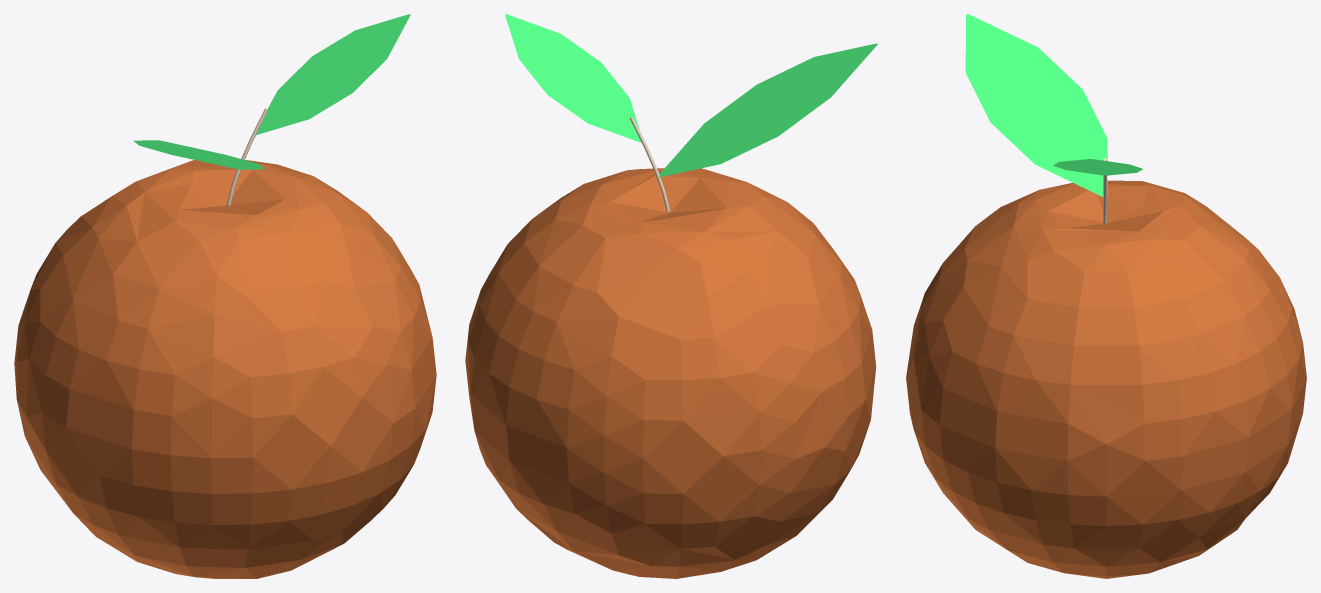
File: orange_fractured.fbx
3 renders of one model, left to right at view 1: azimuth 30°, elevation 25°; view 2: azimuth 150°, elevation 25°; view 3: azimuth 270°, elevation 25°, orthographic. The views are drawn at different scales.
Parts seen in each view (by area): view 1: Sphere001, Sphere001_shard.008, Sphere001_shard.013, Sphere001_shard.009, Sphere001_shard.011, Sphere001_shard.001, Sphere001_shard.006, Plane003, Sphere001_shard.010, Plane002, Sphere001_shard.007; view 2: Sphere001, Sphere001_shard.004, Sphere001_shard.006, Sphere001_shard.014, Plane002, Plane003, Sphere001_shard.002, Sphere001_shard.003, Sphere001_shard.013, Sphere001_shard.009, Sphere001_shard.005; view 3: Sphere001, Sphere001_shard.007, Sphere001_shard.013, Plane002, Sphere001_shard.010, Sphere001_shard.002, Sphere001_shard.005, Sphere001_shard.001, Sphere001_shard.004, Sphere001_shard.012, Plane003, Sphere001_shard.003.
Boxes of the visible parts, x1,y1,x2,y2 form: Sphere001: (27, 160, 435, 578); Sphere001_shard.008: (118, 313, 341, 503); Sphere001_shard.013: (253, 175, 422, 345); Sphere001_shard.009: (49, 181, 278, 457); Sphere001_shard.011: (97, 473, 363, 578); Sphere001_shard.001: (289, 339, 425, 503); Sphere001_shard.006: (14, 282, 152, 565); Plane003: (256, 14, 410, 134); Sphere001_shard.010: (378, 354, 436, 513); Plane002: (133, 140, 264, 169); Sphere001_shard.007: (319, 182, 434, 359); Sphere001: (465, 177, 875, 571); Sphere001_shard.004: (491, 242, 739, 485); Sphere001_shard.006: (618, 372, 864, 578); Sphere001_shard.014: (558, 430, 693, 570); Plane002: (658, 43, 877, 177); Plane003: (505, 14, 641, 142); Sphere001_shard.002: (482, 187, 655, 335); Sphere001_shard.003: (483, 457, 569, 540); Sphere001_shard.013: (576, 168, 732, 192); Sphere001_shard.009: (647, 215, 870, 379); Sphere001_shard.005: (478, 445, 604, 566); Sphere001: (906, 180, 1306, 578); Sphere001_shard.007: (977, 267, 1197, 531); Sphere001_shard.013: (934, 208, 1113, 393); Plane002: (965, 14, 1107, 196); Sphere001_shard.010: (938, 410, 1087, 565); Sphere001_shard.002: (1107, 207, 1259, 368); Sphere001_shard.005: (1078, 496, 1256, 578); Sphere001_shard.001: (906, 302, 977, 477); Sphere001_shard.004: (1185, 194, 1306, 427); Sphere001_shard.012: (1164, 369, 1297, 497); Plane003: (1053, 159, 1142, 175); Sphere001_shard.003: (1239, 432, 1296, 510).
Size of the model in its own units: 45819 by 61166 by 45930.
